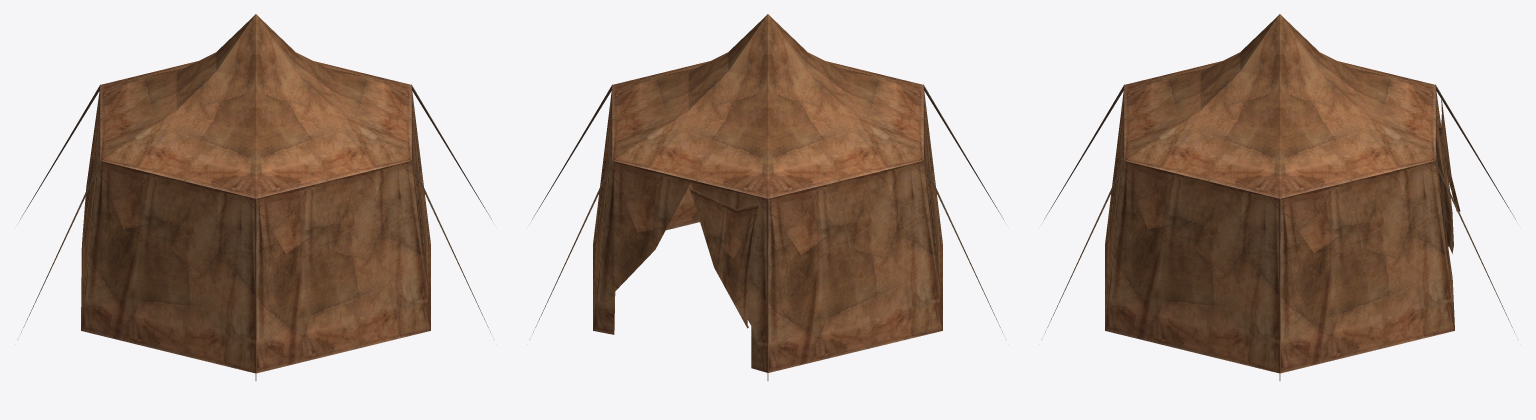
Rendered from thm_tato_tent_house_s01_l1.fbx.
The picture shows the model from 3 angles, left to right: view 1: azimuth 30°, elevation 25°; view 2: azimuth 150°, elevation 25°; view 3: azimuth 270°, elevation 25°; orthographic projection.
Visible parts, largest first — view 1: mesh_node; view 2: mesh_node; view 3: mesh_node.
Boxes of the visible parts, bbox=[...] form: mesh_node: bbox=[20, 14, 491, 380]; mesh_node: bbox=[532, 14, 1003, 380]; mesh_node: bbox=[1044, 14, 1515, 380].
Bounding box in the file's own units: 11.9 × 6.45 × 10.3.
